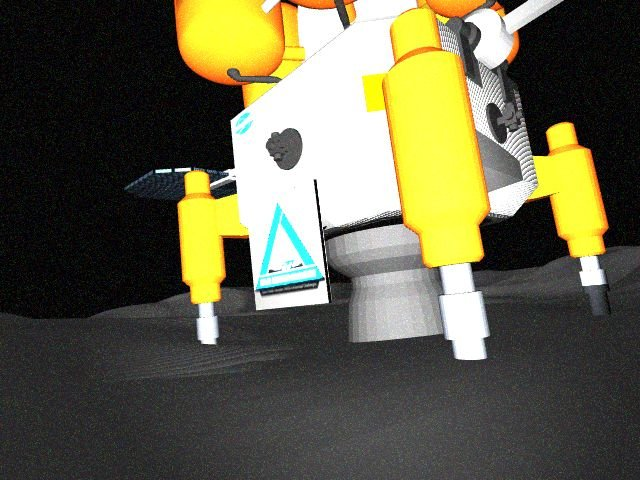basemarker: (255, 202, 326, 299)
